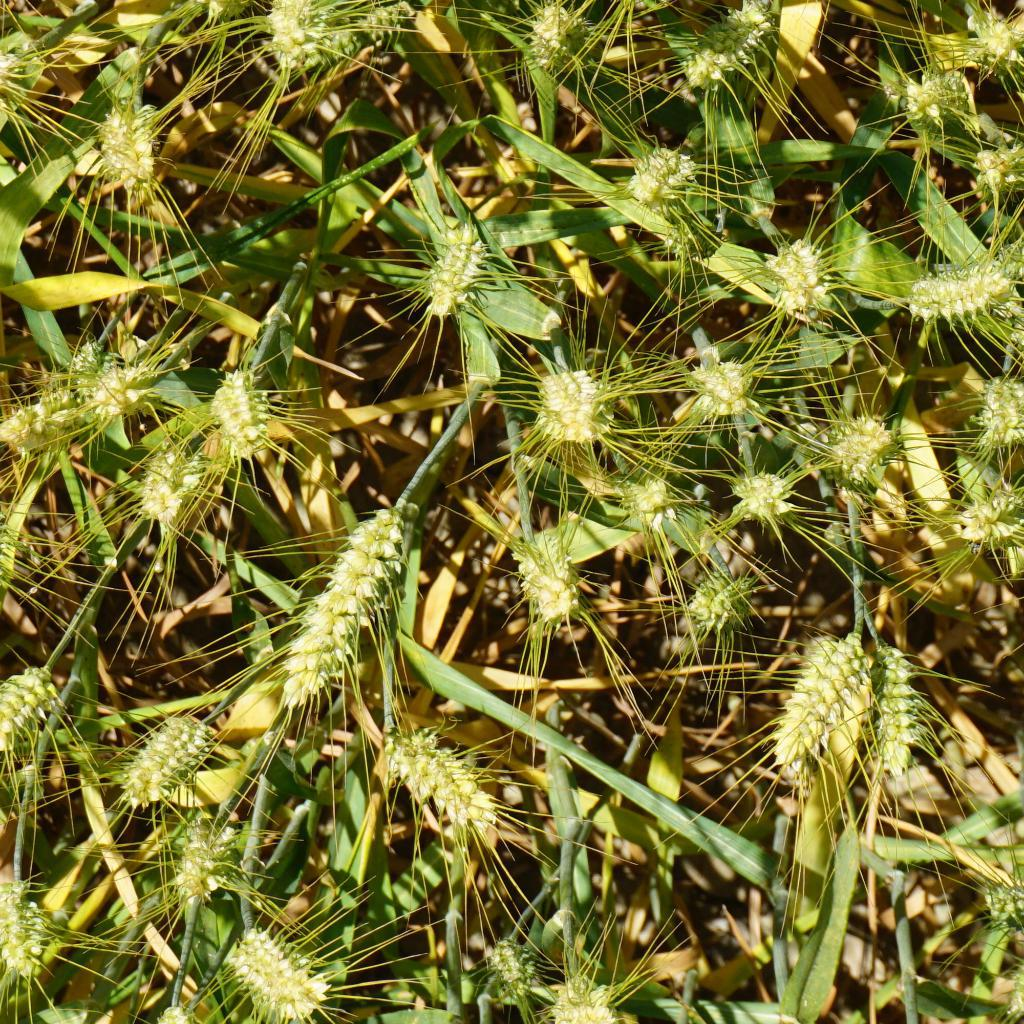0-0: (271, 488, 407, 705), (388, 722, 498, 848), (216, 923, 350, 1024), (519, 350, 612, 470), (770, 640, 854, 765), (683, 0, 777, 102), (409, 216, 502, 316), (856, 651, 927, 775), (86, 88, 173, 186), (504, 519, 584, 620), (161, 811, 240, 909), (902, 256, 1019, 321), (130, 712, 212, 801), (208, 364, 285, 458), (714, 449, 799, 529), (679, 555, 760, 637), (0, 870, 58, 980), (70, 344, 157, 417), (770, 224, 837, 316), (826, 397, 891, 488), (0, 381, 82, 453), (949, 478, 1024, 555), (507, 0, 584, 74), (620, 453, 697, 527), (134, 439, 198, 527), (679, 346, 754, 421), (256, 0, 336, 70), (978, 902, 1024, 1016), (958, 130, 1024, 204), (472, 929, 533, 1002), (907, 60, 974, 120), (970, 376, 1024, 449), (0, 657, 45, 740), (0, 35, 41, 125), (644, 141, 700, 204), (970, 4, 1024, 67), (978, 229, 1024, 288), (988, 872, 1024, 933), (563, 972, 601, 1024), (1003, 305, 1024, 381)
